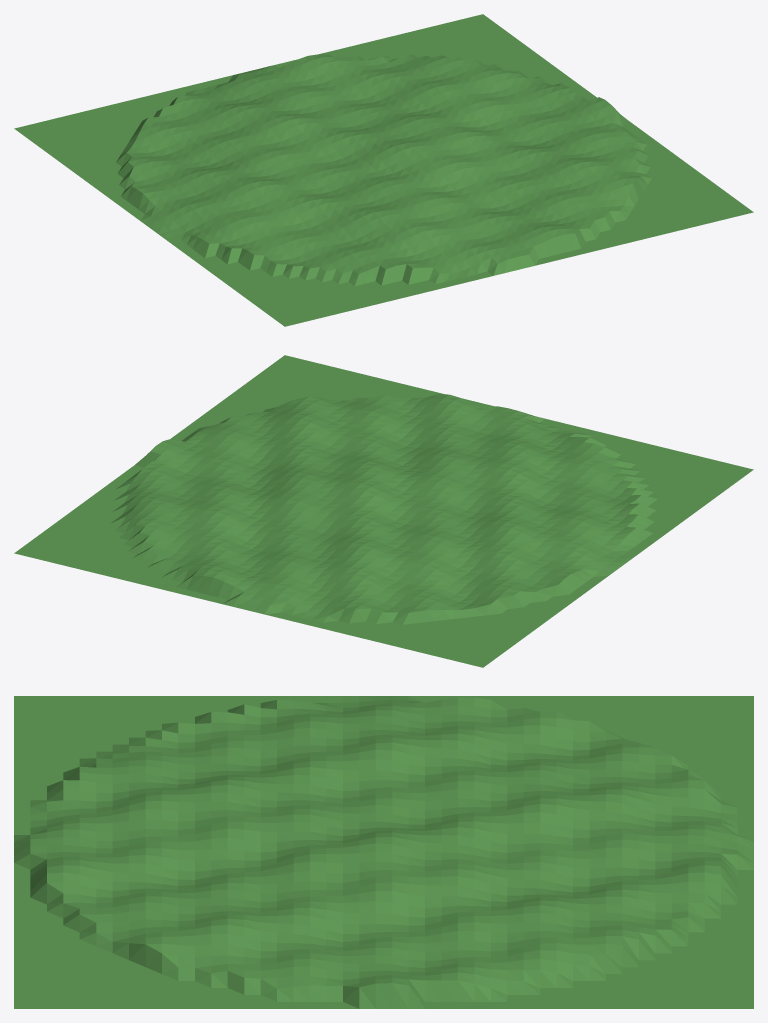
The model's file is ISLA_ARCHIPIELAGO_COLISION.glb.
3 renders of one model, top to bottom at view 1: azimuth 30°, elevation 25°; view 2: azimuth 150°, elevation 25°; view 3: azimuth 270°, elevation 25°, orthographic. The views are drawn at different scales.
Parts seen in each view (by area): view 1: terrain-col; view 2: terrain-col; view 3: terrain-col.
Part boxes in pixels (x1=…): terrain-col: x1=14, y1=14, x2=753, y2=326; terrain-col: x1=14, y1=355, x2=753, y2=667; terrain-col: x1=14, y1=696, x2=753, y2=1008.
Bounding box in the file's own units: 144 × 5.7 × 144.
